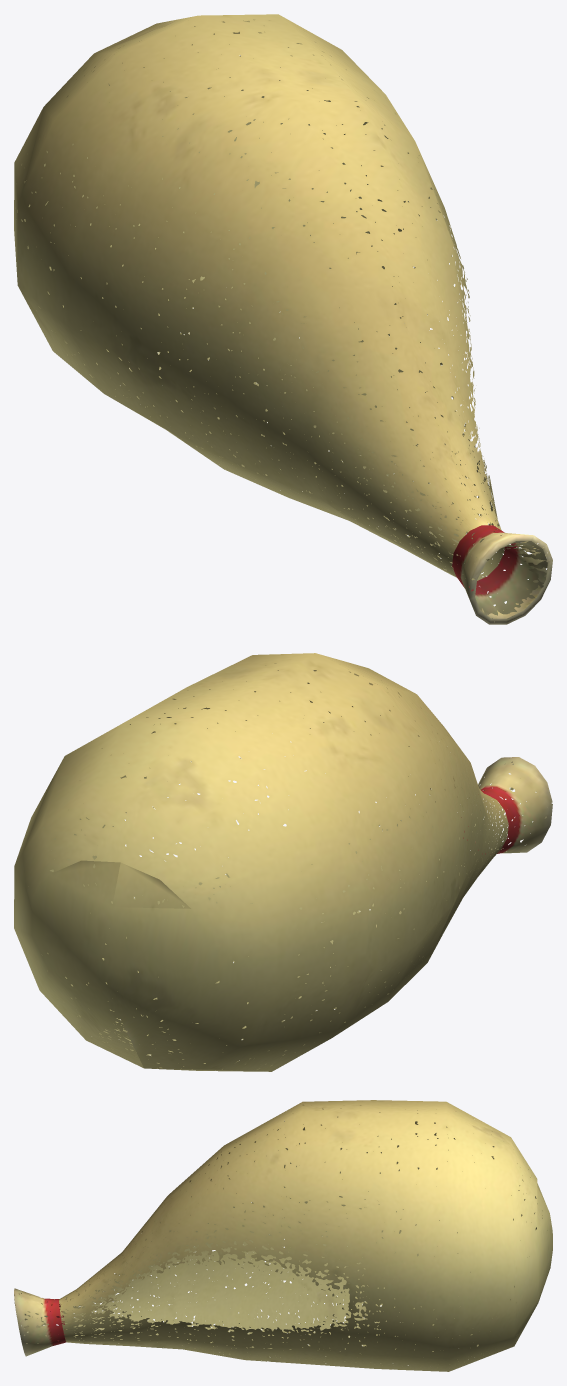
File: Nero_Padoru_Bolsa.obj
3 views of the same model, one above another, from view 1: azimuth 30°, elevation 25°; view 2: azimuth 150°, elevation 25°; view 3: azimuth 270°, elevation 25° (orthographic). The views are drawn at different scales.
Visible parts, largest first — view 1: g_meshId0_name.001; view 2: g_meshId0_name.001; view 3: g_meshId0_name.001.
Part boxes in pixels (x1,y1,x2,y2): g_meshId0_name.001: (14, 14, 552, 624); g_meshId0_name.001: (14, 653, 552, 1071); g_meshId0_name.001: (14, 1100, 552, 1371).
Size of the model in its own units: 0.00598 by 0.00587 by 0.0117.
